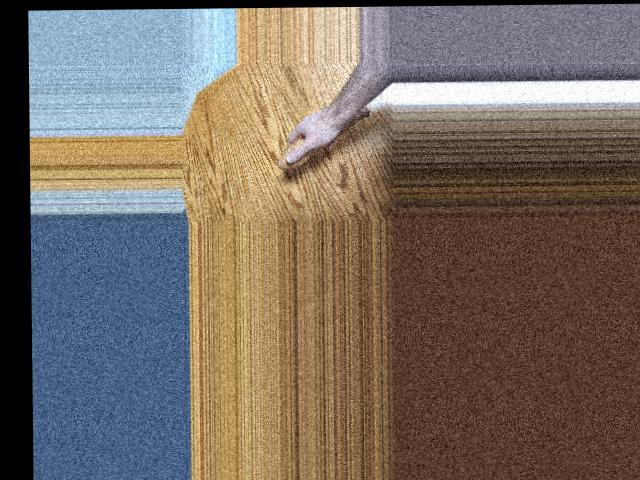sweet_potato: (276, 104, 373, 169)
